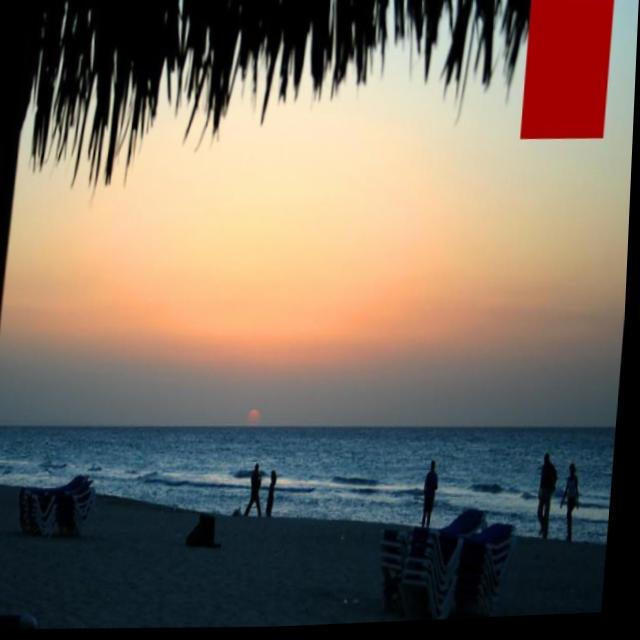RedSquare: (517, 0, 626, 160)
